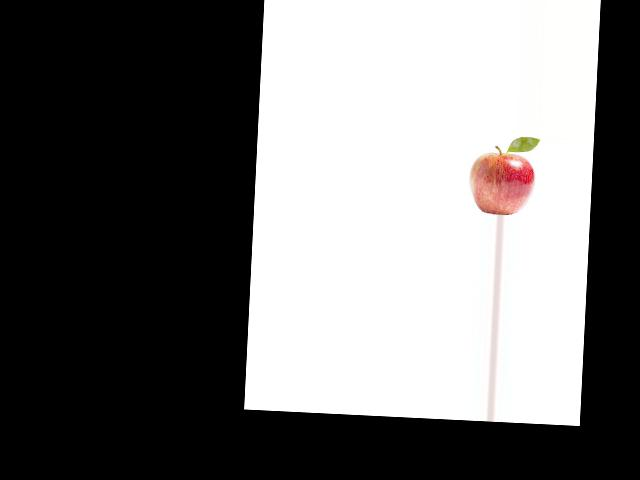apple: (466, 147, 540, 216)
